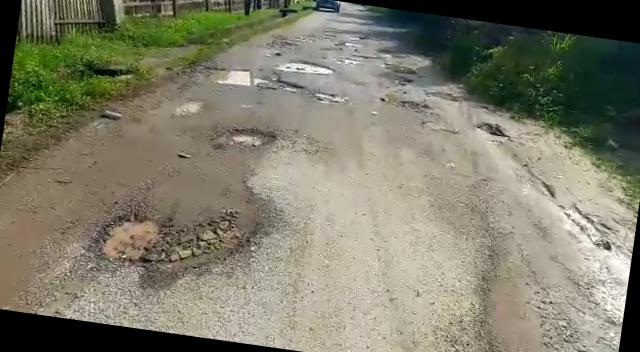pothole: (84, 191, 277, 294), (210, 63, 312, 96), (210, 120, 280, 156), (274, 55, 336, 76), (309, 90, 346, 105)
